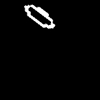chain: (25, 5, 54, 27)
